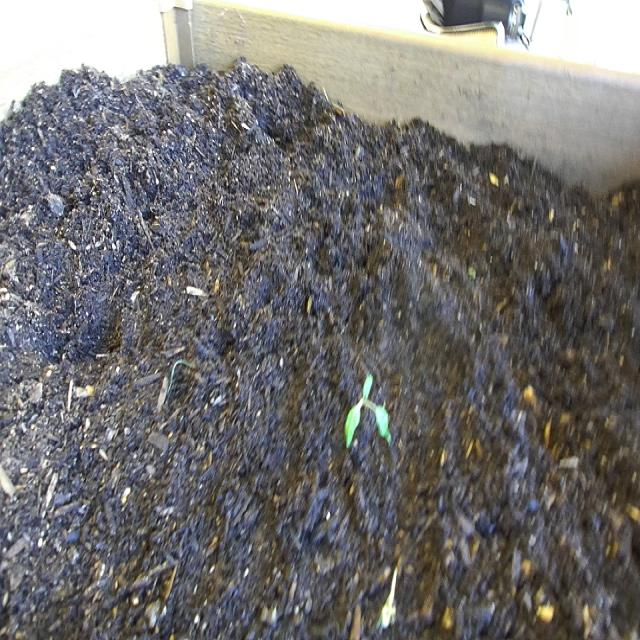Healthy: (337, 352, 401, 482)
